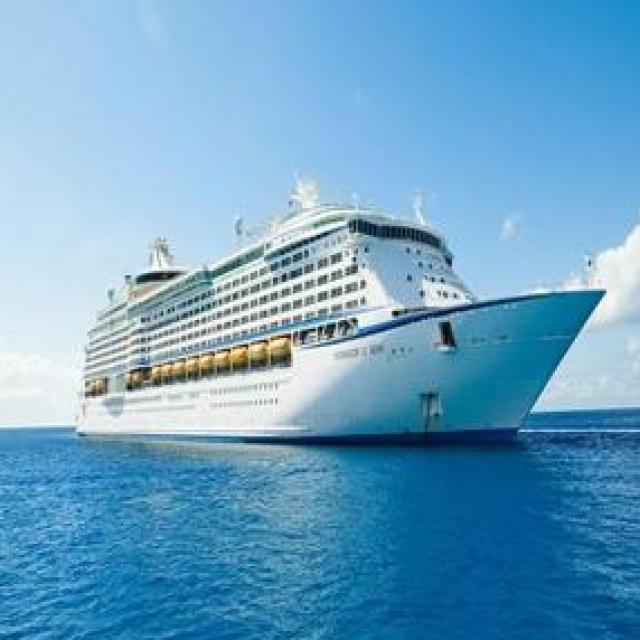passenger ship: (76, 199, 606, 439)
